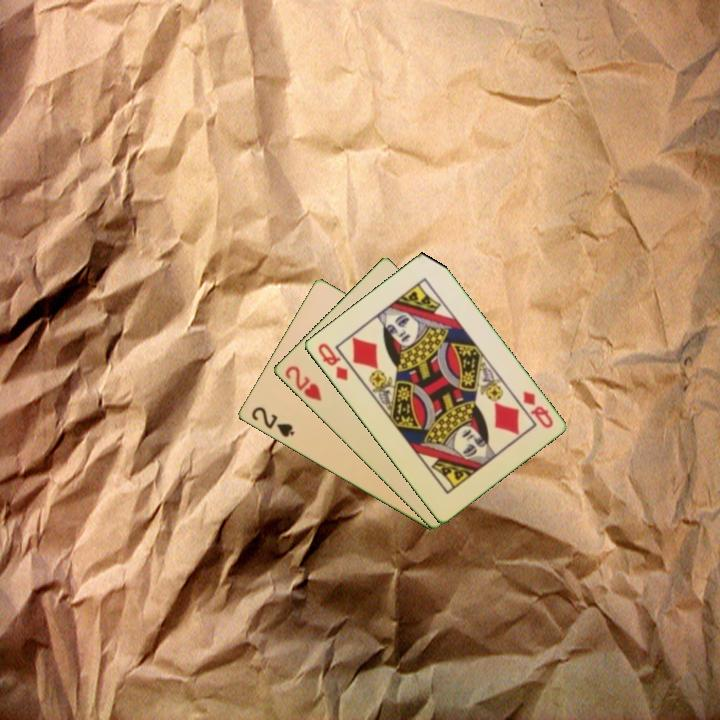2h: (281, 362, 324, 404)
2s: (247, 403, 297, 440)
Qd: (314, 339, 351, 384), (519, 387, 556, 431)
